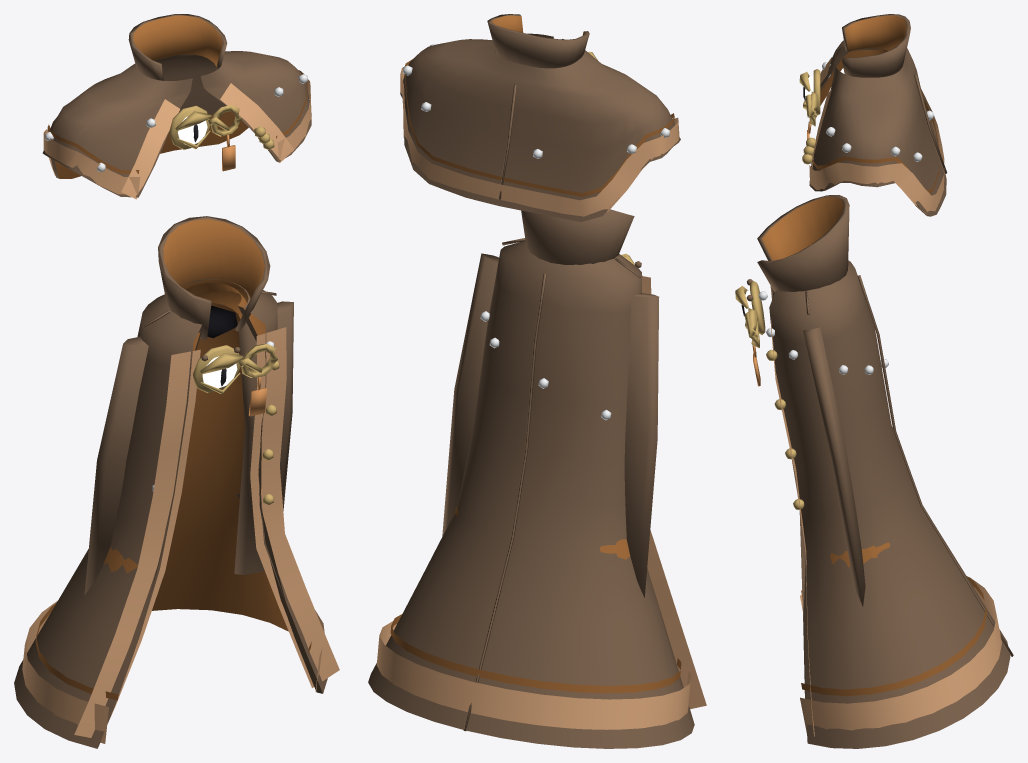
The model's file is coat-lent-coat.glb.
3 views of the same model, side by side, from view 1: azimuth 30°, elevation 25°; view 2: azimuth 150°, elevation 25°; view 3: azimuth 270°, elevation 25° (orthographic). The views are drawn at different scales.
Visible parts, largest first — view 1: coat-lent-coat, coat-lent-coat_worn, sway_sleeve_r, sway_sleeve_l, blink_eye; view 2: coat-lent-coat, coat-lent-coat_worn, sway_sleeve_r, sway_sleeve_l; view 3: coat-lent-coat, coat-lent-coat_worn, sway_sleeve_l.
Part boxes in pixels (box(x1,y1,x2,y2)): coat-lent-coat: box(14, 216, 339, 748); coat-lent-coat_worn: box(42, 14, 311, 199); sway_sleeve_r: box(84, 336, 148, 594); sway_sleeve_l: box(234, 301, 293, 574); blink_eye: box(202, 356, 237, 388); coat-lent-coat: box(368, 209, 706, 748); coat-lent-coat_worn: box(400, 14, 680, 221); sway_sleeve_r: box(624, 293, 659, 597); sway_sleeve_l: box(442, 253, 498, 536); coat-lent-coat: box(735, 195, 1013, 748); coat-lent-coat_worn: box(799, 14, 947, 216); sway_sleeve_l: box(803, 327, 865, 606).
Bounding box in the file's own units: 0.974 × 2.15 × 0.8226.
